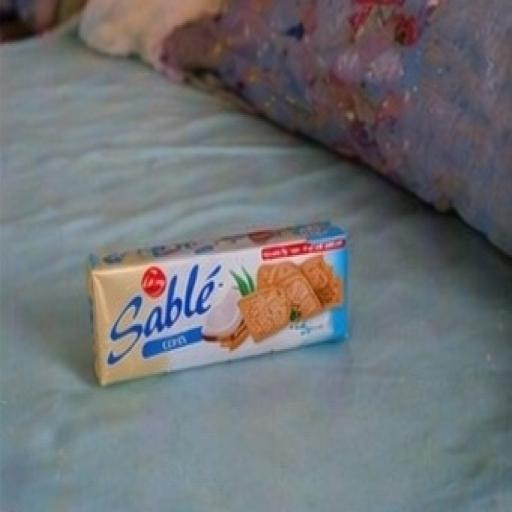sabl: (34, 191, 392, 408)
